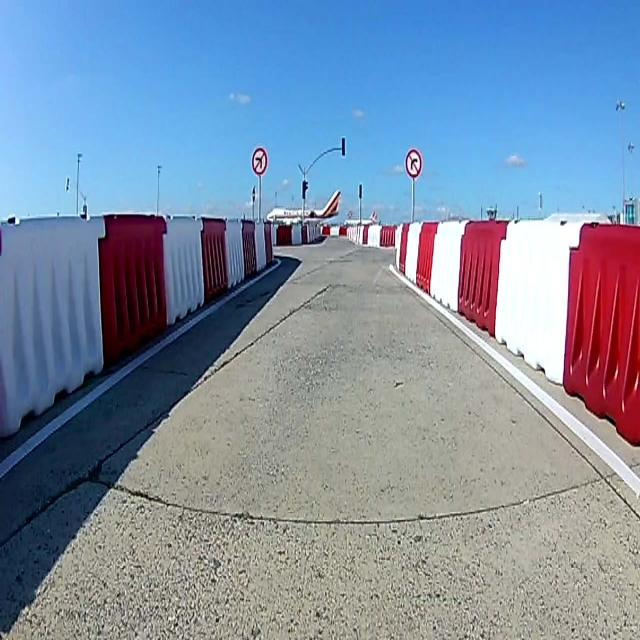sagadonulmez: (406, 148, 421, 173)
soladonulmez: (251, 147, 267, 176)
